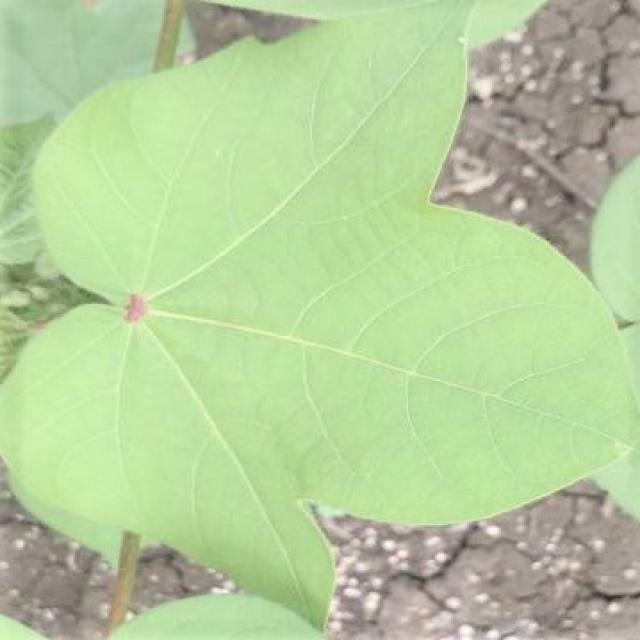Healthy Leaf: (33, 23, 406, 563)
